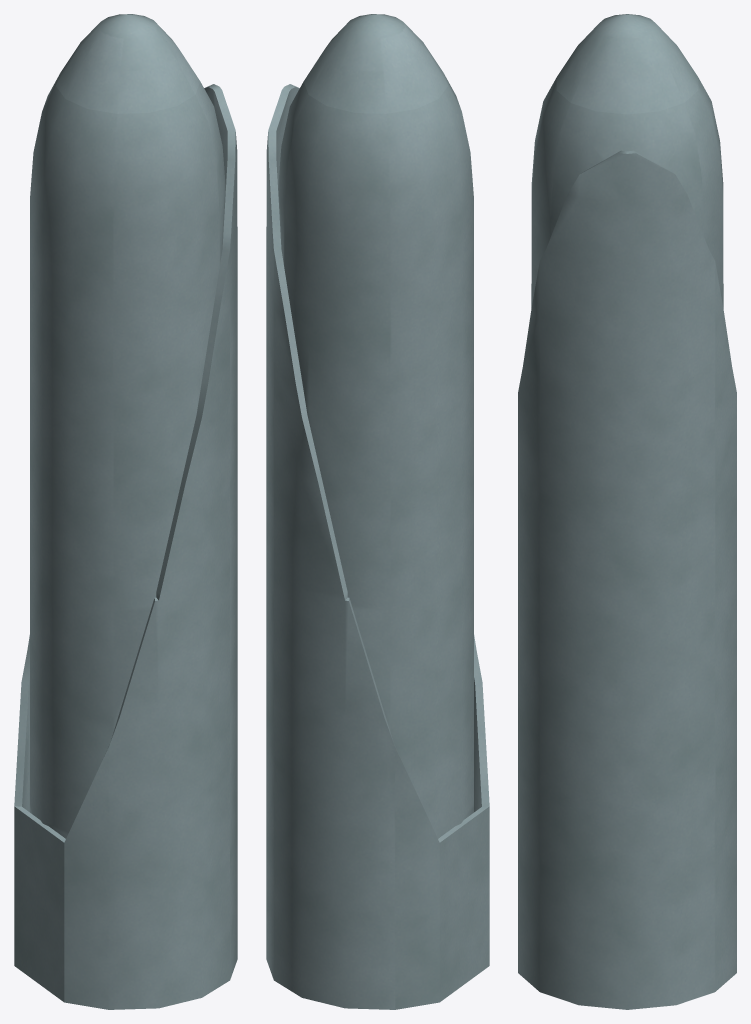
Rendered from building7.glb.
3 views of the same model, side by side, from view 1: azimuth 30°, elevation 25°; view 2: azimuth 150°, elevation 25°; view 3: azimuth 270°, elevation 25° (orthographic).
Visible parts, largest first — view 1: building7; view 2: building7; view 3: building7.
Part boxes in pixels (x1,y1,x2,y2): building7: [14, 14, 237, 1009]; building7: [266, 14, 489, 1009]; building7: [518, 14, 736, 1009].
Bounding box in the file's own units: 0.1354 × 0.6675 × 0.1395.
1 material, 1 textured.
